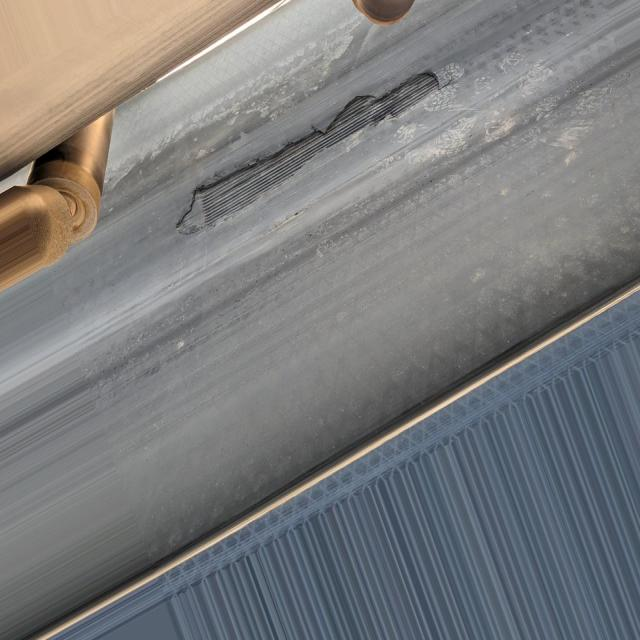Roller: (0, 106, 118, 296), (356, 0, 411, 27)
Tear: (176, 59, 451, 240)
